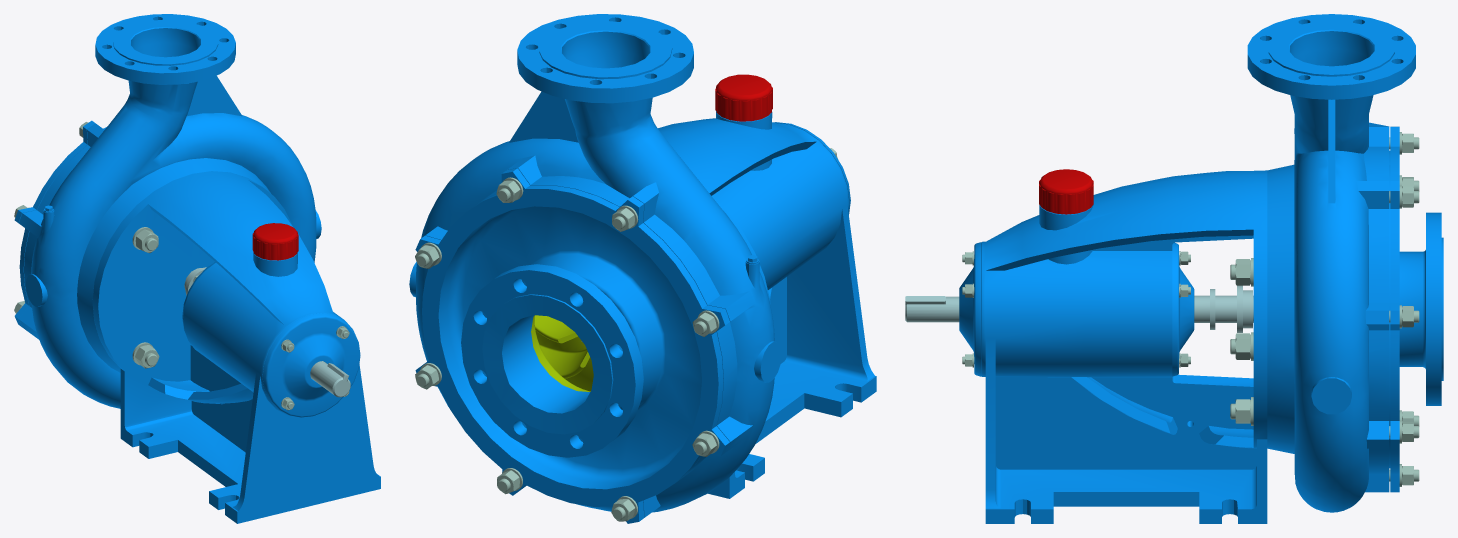
The model's file is Bomba Emica 150-40.gltf.
The picture shows the model from 3 angles, left to right: view 1: azimuth 30°, elevation 25°; view 2: azimuth 150°, elevation 25°; view 3: azimuth 270°, elevation 25°; orthographic projection. The views are drawn at different scales.
Parts seen in each view (by area): view 1: model, model.002, model.003, cap, model.001, axis.001, bolts1.003; view 2: model.001, model.002, model, impeler.001, bolts1.002, cap, Object_57.007, Object_57.006; view 3: model, model.002, model.001, axis.001, cap, model.006, model.003, bolts1.002, bolts1.003, Object_57.007.
Boxes of the visible parts, x1,y1,x2,y2 form: model: (92,171,380,523); model.002: (18,14,321,408); model.003: (262,313,360,417); cap: (252,223,298,260); model.001: (14,120,106,326); axis.001: (184,267,350,397); bolts1.003: (135,229,159,368); model.001: (415,168,729,523); model.002: (409,14,781,517); model: (658,111,876,498); impeler.001: (531,315,593,391); bolts1.002: (415,180,716,521); cap: (715,74,772,121); Object_57.007: (416,188,706,520); Object_57.006: (420,177,719,518); model: (981,170,1267,523); model.002: (1247,14,1415,512); model.001: (1389,126,1443,492); axis.001: (905,285,1253,332); cap: (1039,169,1093,214); model.006: (1172,242,1194,376); model.003: (959,242,980,376); bolts1.002: (1402,133,1413,485); bolts1.003: (1235,259,1250,423); Object_57.007: (1389,137,1419,481).
Size of the model in its own units: 0.6656 by 0.8283 by 0.9218.
